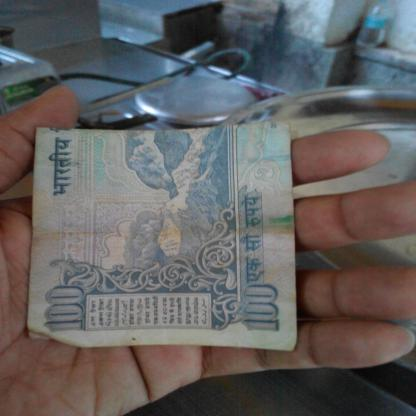Old100Back: (26, 122, 298, 351)
